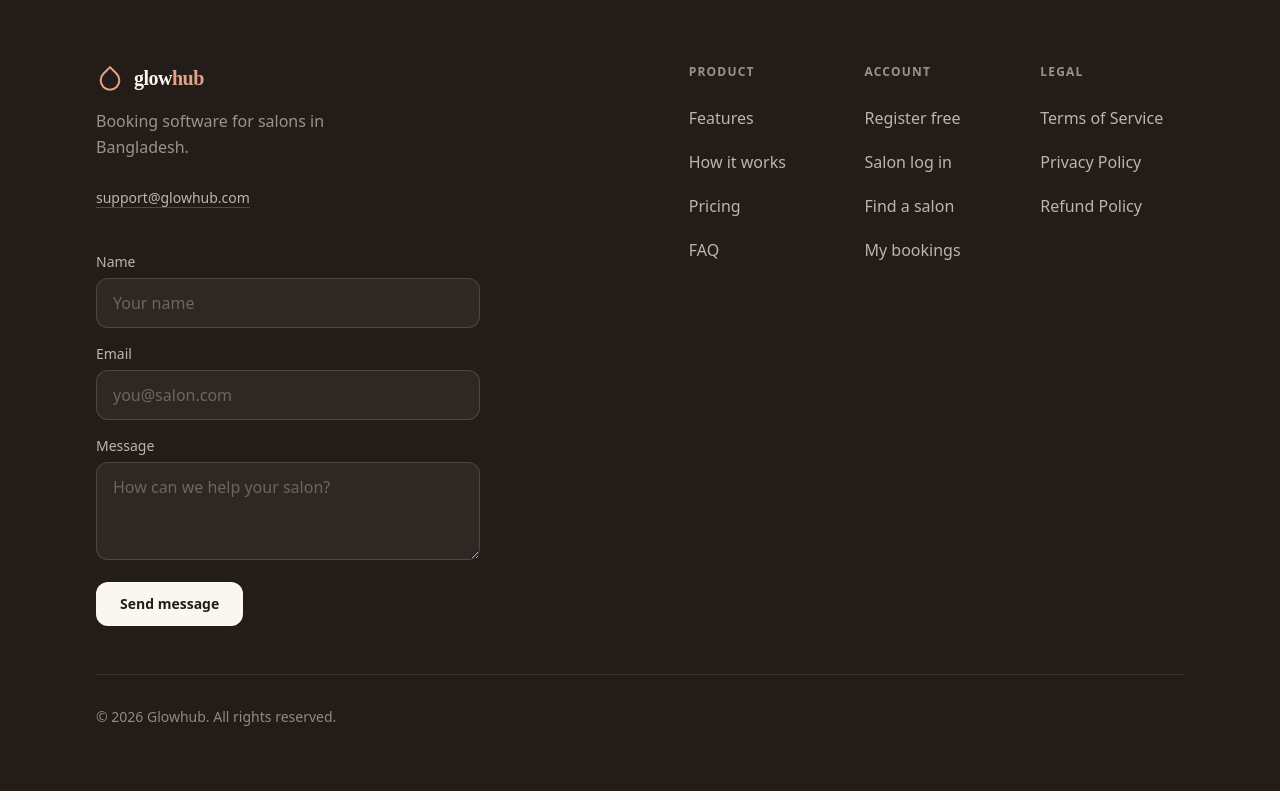
MarketingFooter › sends the message to the contact endpoint
The image size is (1280, 800).
Type "Rupali" into the field with id "footer-contact-name" at x=288, y=303, box [96, 278, 480, 328]
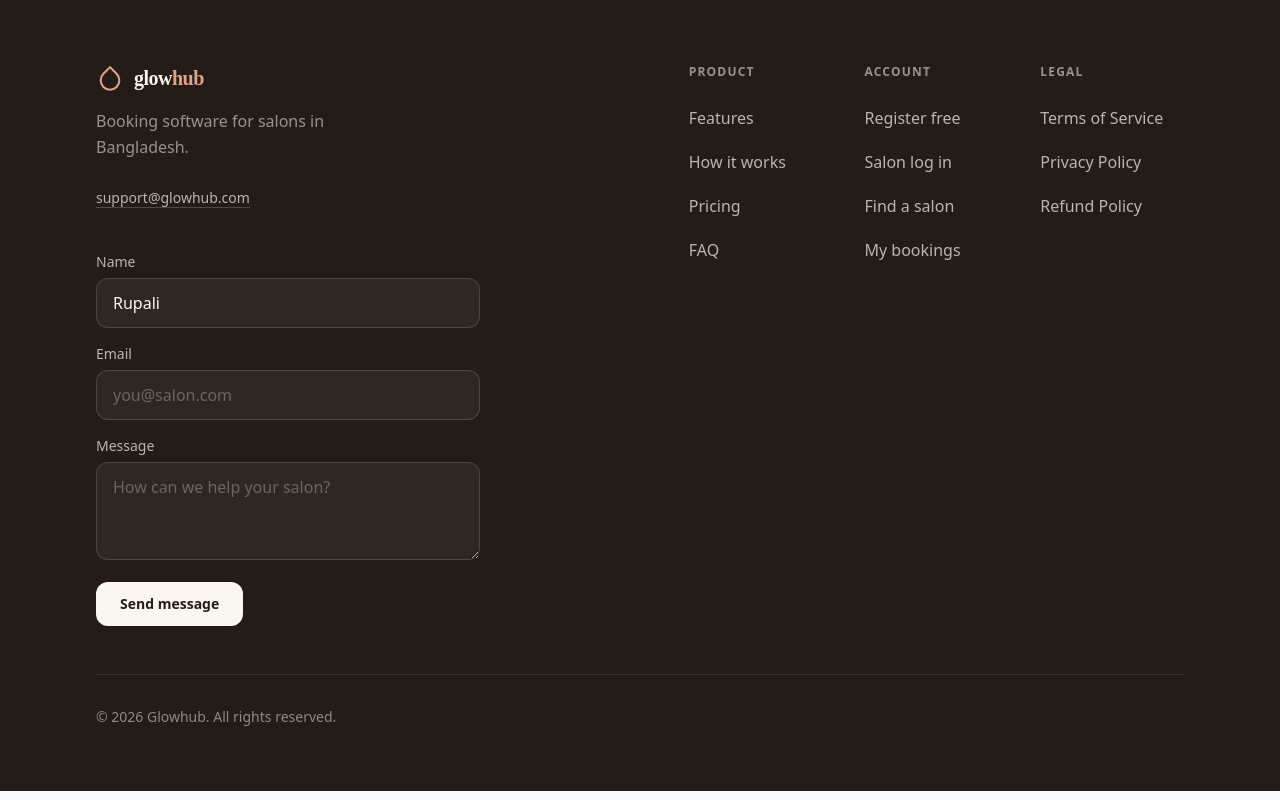
Type "rupali@salon.test" into the field with id "footer-contact-email" at x=288, y=395, box [96, 370, 480, 420]
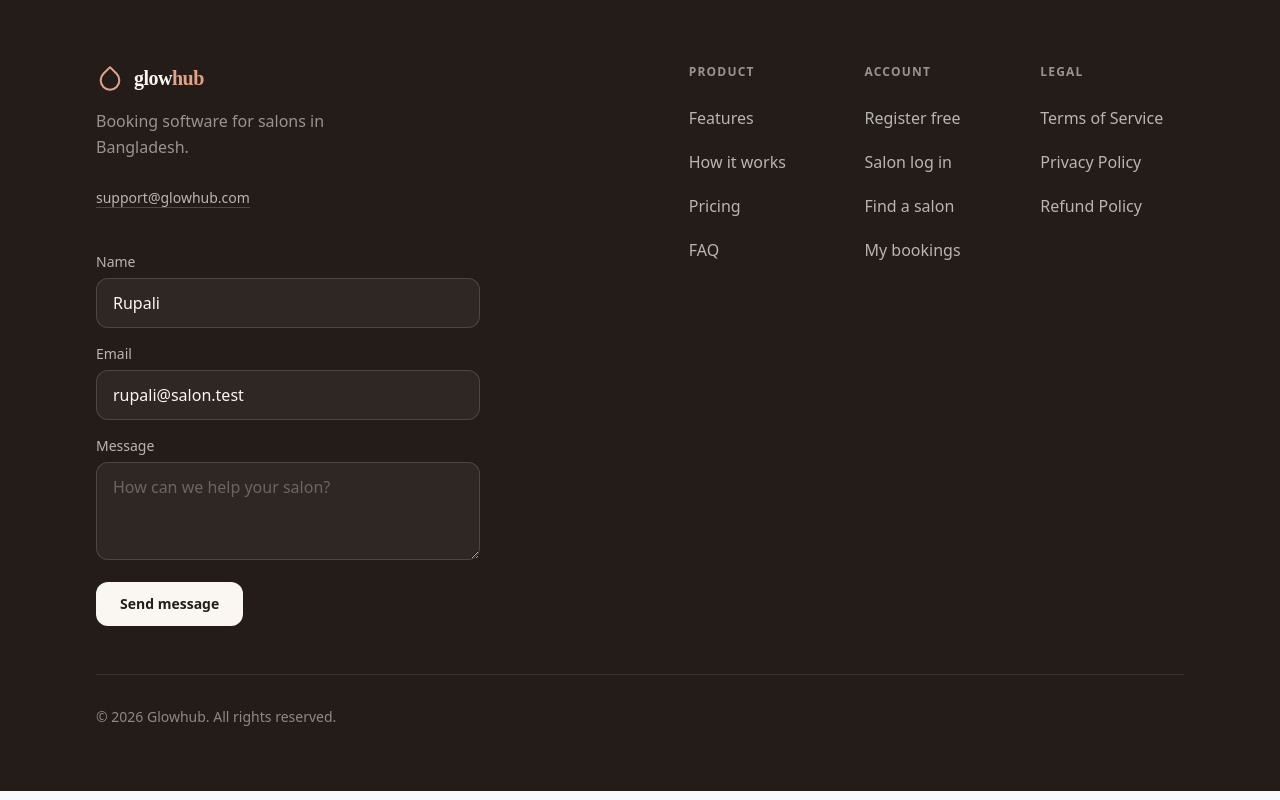
Type "Do you support two branches?" into the text box with id "footer-contact-message" at x=288, y=511, box [96, 462, 480, 560]
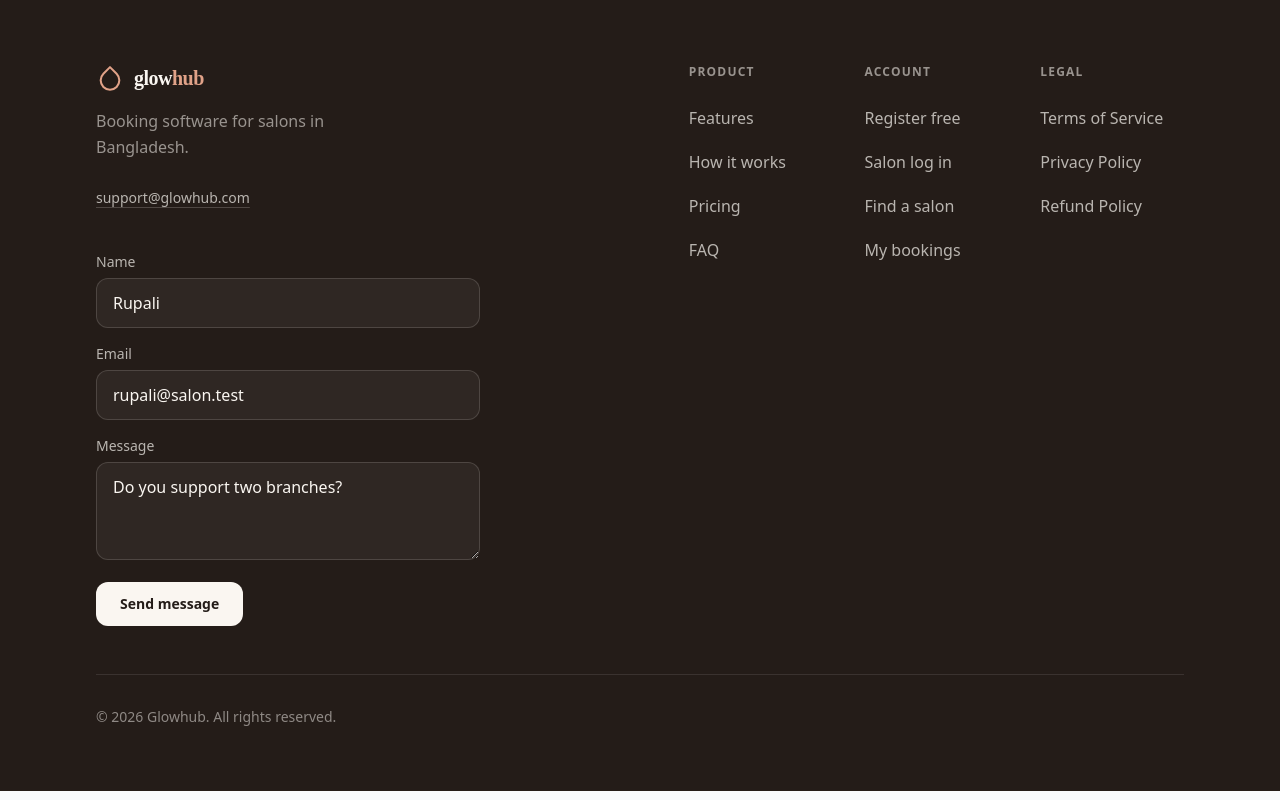
Submit the form, box [96, 252, 480, 626]
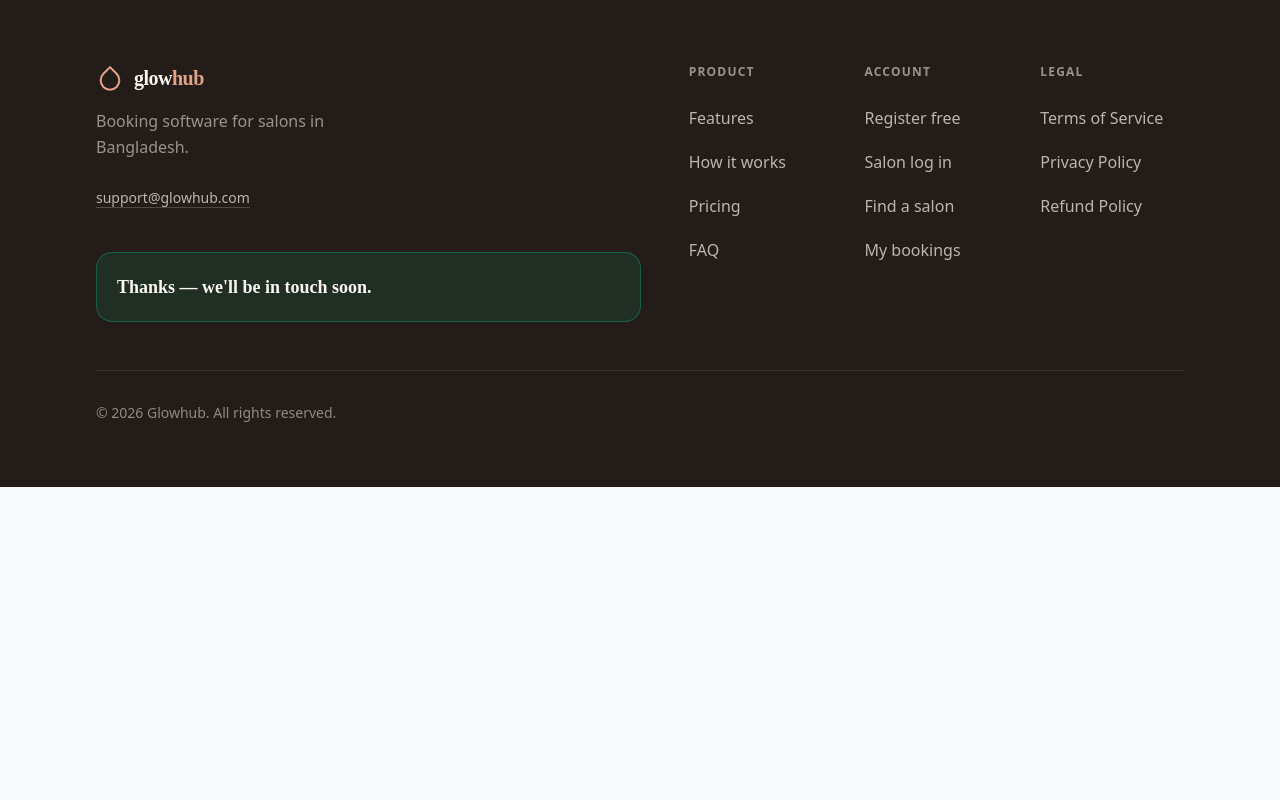
Expected: the text "Thanks — we'll be in touch" is shown, [117, 277, 372, 297]
